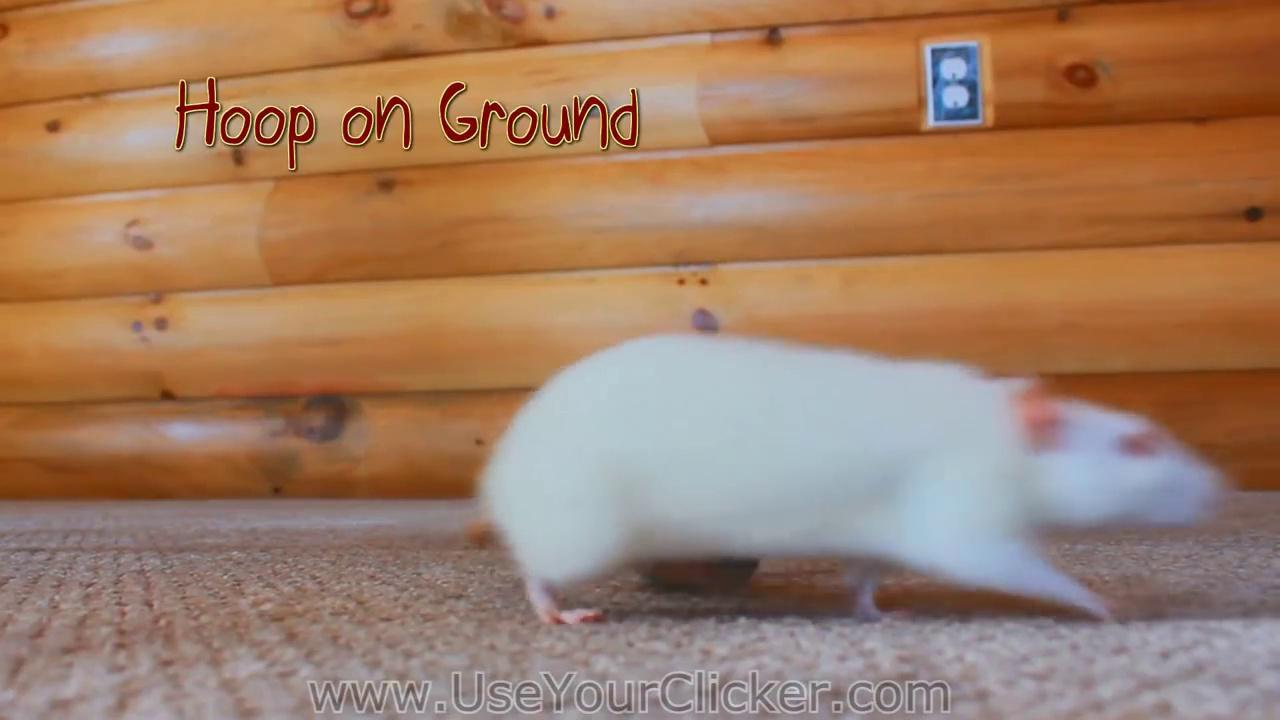rat: (480, 335, 1224, 627)
